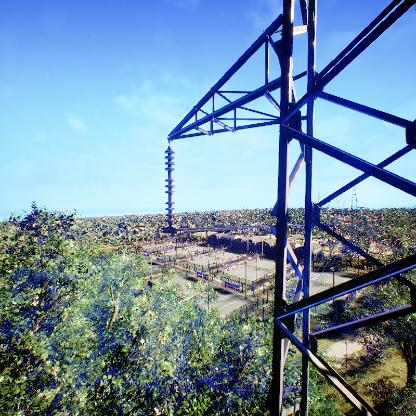insulator: (162, 147, 177, 226)
